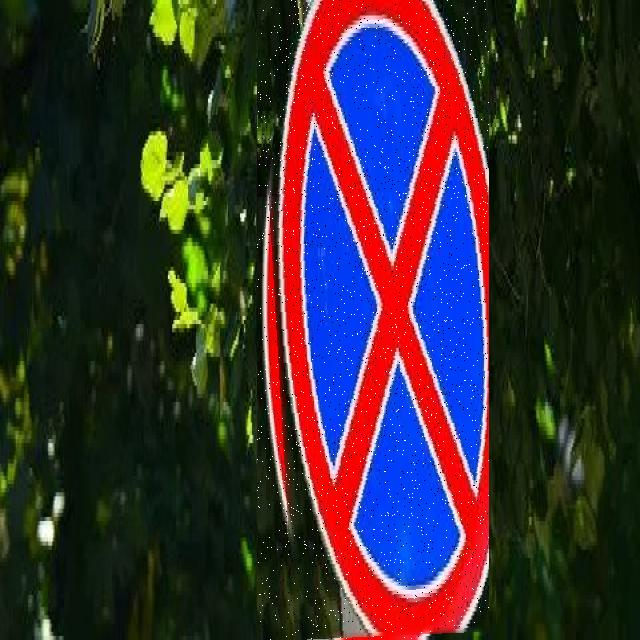no stopping: (257, 0, 489, 640)
